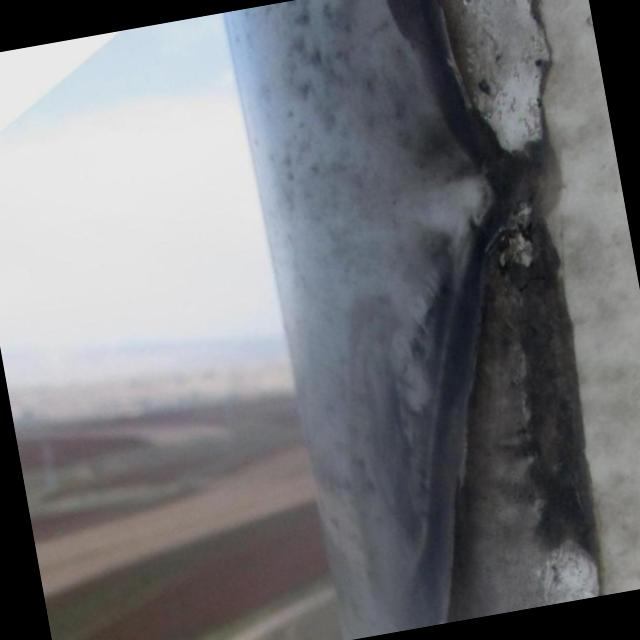crack: (363, 198, 622, 624), (397, 0, 572, 203)
